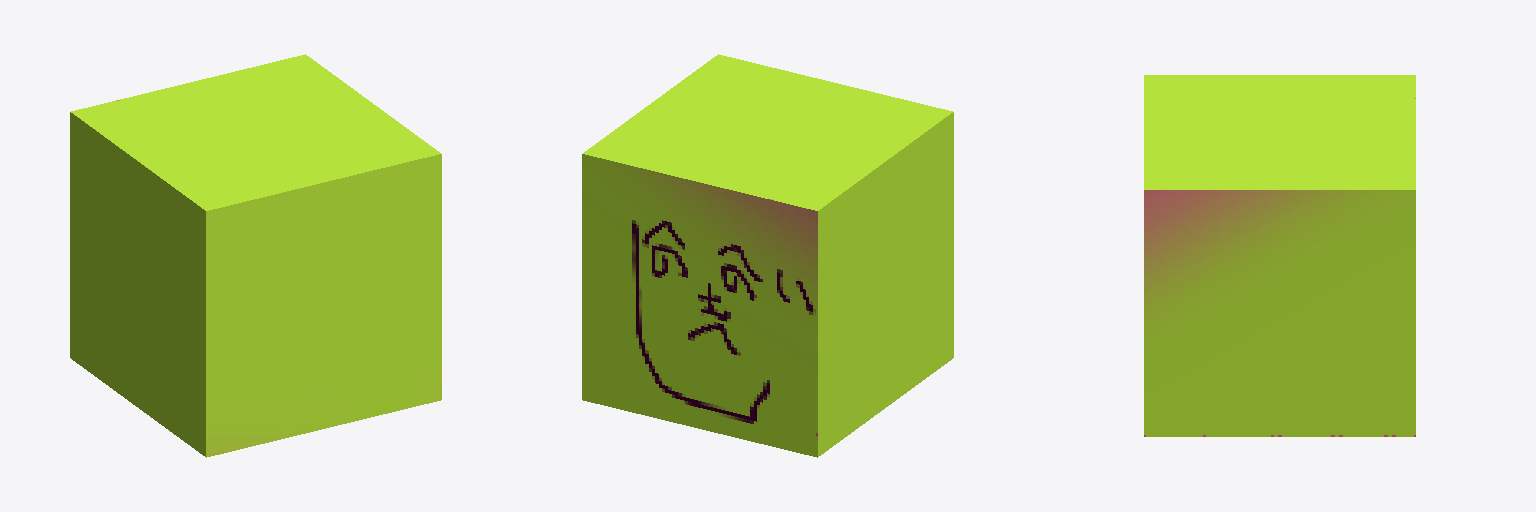
3 renders of one model, left to right at view 1: azimuth 30°, elevation 25°; view 2: azimuth 150°, elevation 25°; view 3: azimuth 270°, elevation 25°, orthographic.
Parts seen in each view (by area): view 1: Cube; view 2: Cube; view 3: Cube.
Boxes of the visible parts, box(x1,y1,x2,y2) form: Cube: box(70, 54, 441, 457); Cube: box(582, 54, 953, 457); Cube: box(1144, 75, 1415, 436).
Size of the model in its own units: 2 by 2 by 2.
Materials: 1 (1 with a texture image).